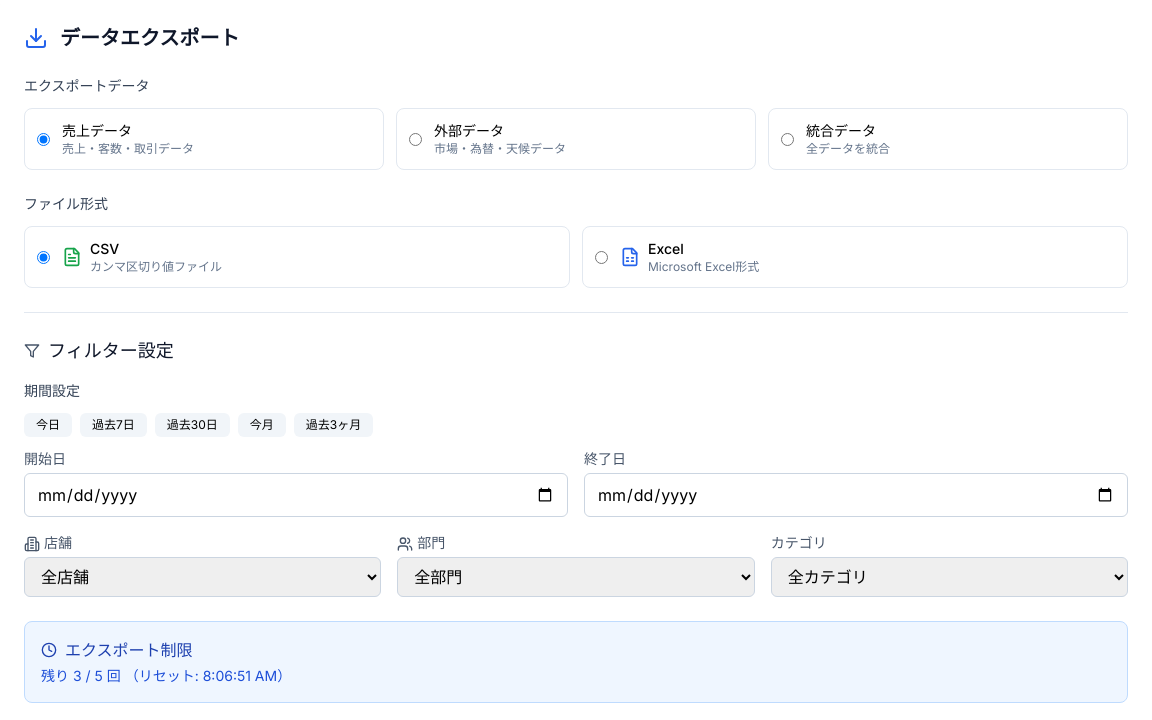
Test: ExportForm › shows store/department filters only for sales or combined data
Check: the text "店舗" is shown, box x1=24 y1=534 x2=72 y2=552
Check: the text "部門" is shown, box x1=397 y1=534 x2=445 y2=552
Note: 外部データ選択時は非表示
What coordinates should you click on to do the following:
click the radio button labelled "外部データ 市場・為替・天候データ"
I would click on:
 (416, 139)
Its box is x1=409 y1=132 x2=422 y2=146.
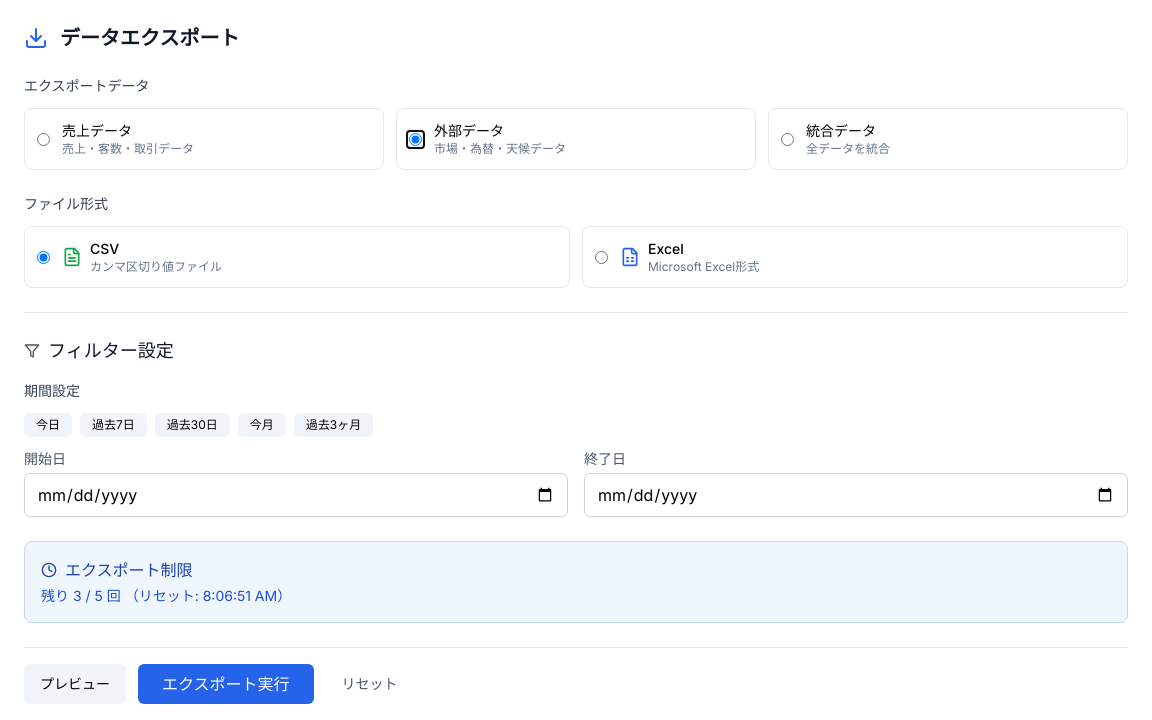
Check: the text "店舗" is gone
Check: the text "部門" is gone
Note: 統合データ選択時は再表示
What coordinates should you click on to do the following:
click the radio button labelled "統合データ 全データを統合"
I would click on:
 (788, 139)
Its box is x1=781 y1=132 x2=794 y2=146.
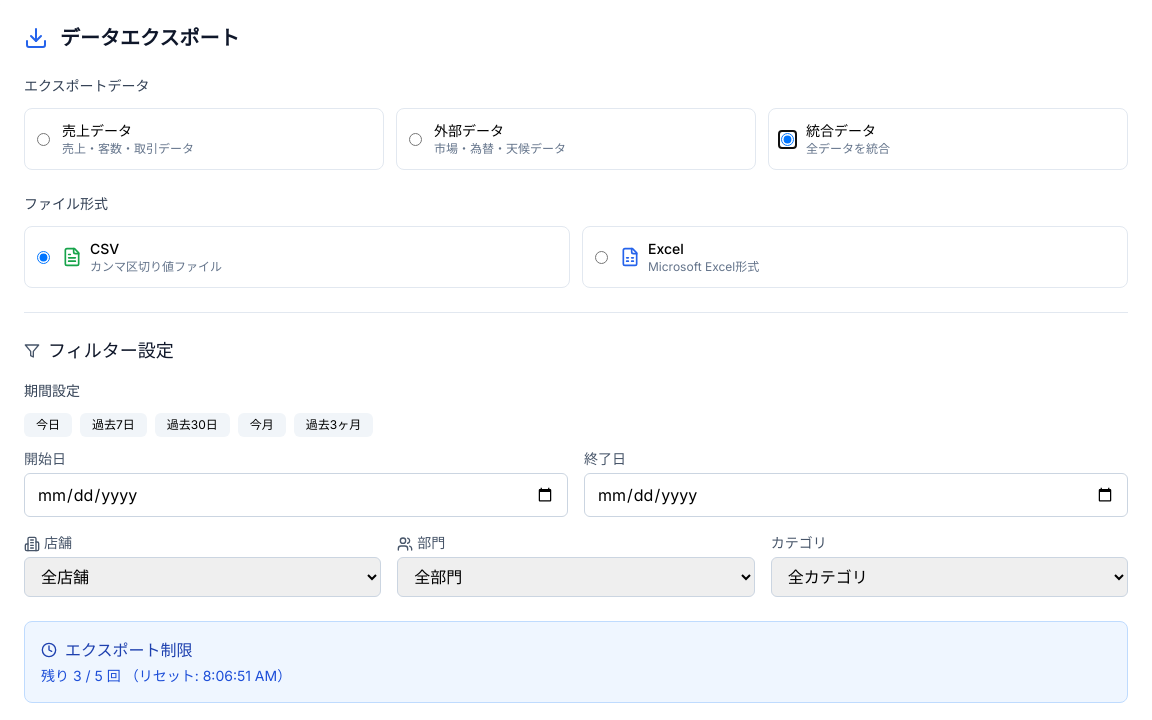
Check: the text "店舗" is shown, box x1=24 y1=534 x2=72 y2=552
Check: the text "部門" is shown, box x1=397 y1=534 x2=445 y2=552
